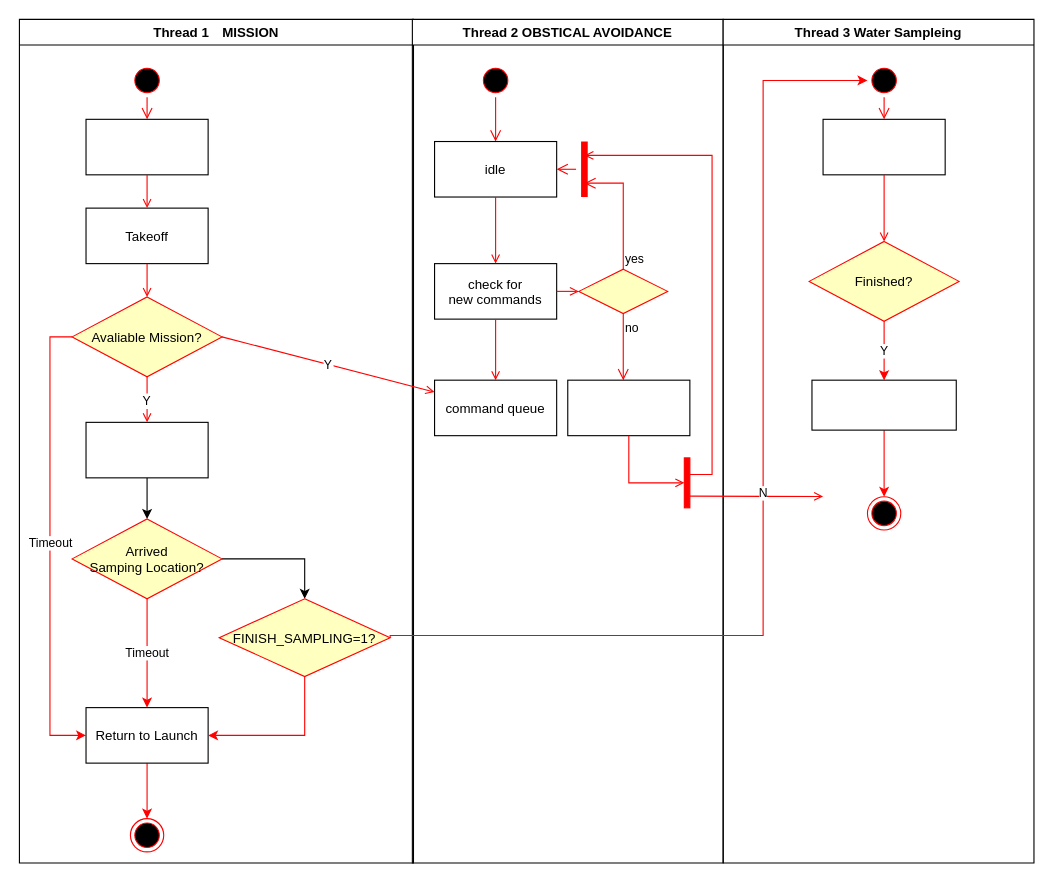
Some shapes in this 1053 by 882 pixel diagram are drawn without their labels. Each missing label, with the centre of its shape:
Disarm: pixel 146 146
dispatch command worker thread: pixel 628 407
Drop Mechannisim: pixel 883 146
FINISH_SAMPLING=1: pixel 883 404
Follow Waypoints: pixel 146 449
queue empty: pixel 623 291
